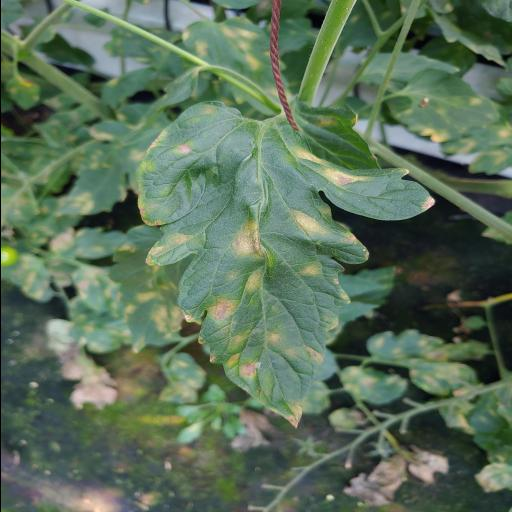disease_tomato: (132, 102, 438, 430)
